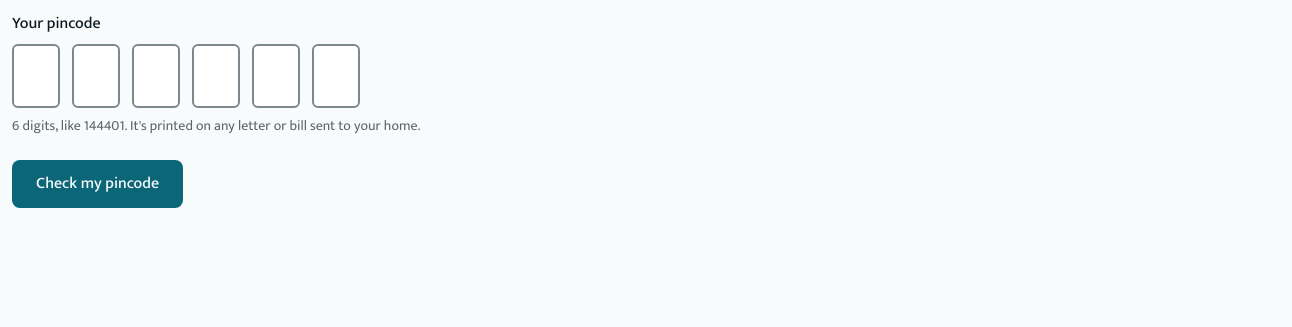
Test: PincodeInput › shows the area for a served pincode, then opens the report page from Report in
This screenshot has width=1292, height=327.
In the field labelled "Your pincode": (186, 76) [12,44,360,108], type "144401"
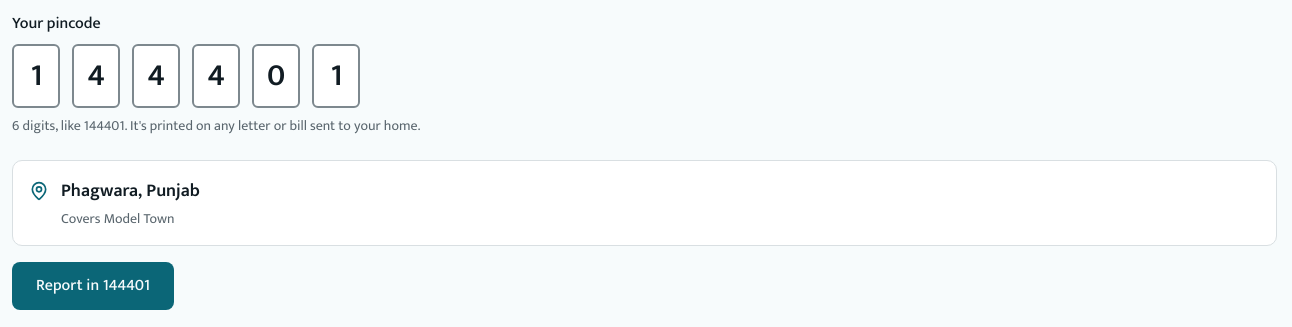
Check: the text "Phagwara, Punjab" is shown, box [61,177,200,205]
Click the button "Report in 144401": (93, 286) [12,262,174,310]
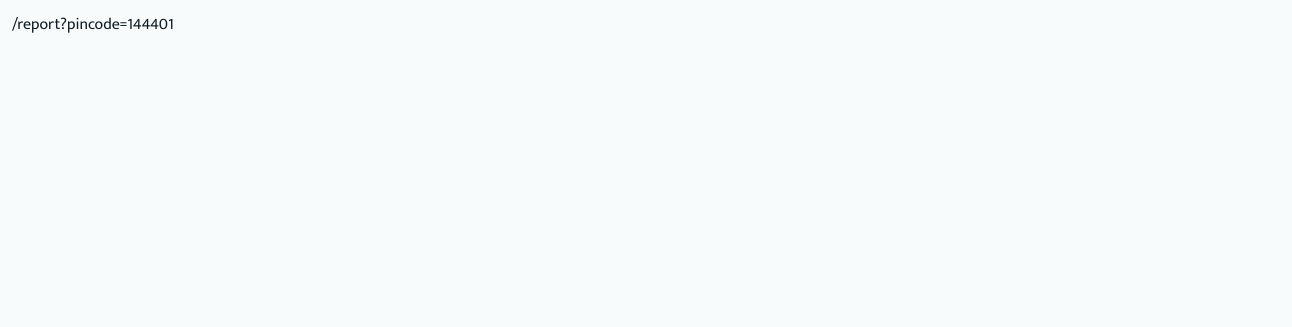
Check: the text with test id "report-url" reads "/report?pincode=144401", box [12,11,174,38]
